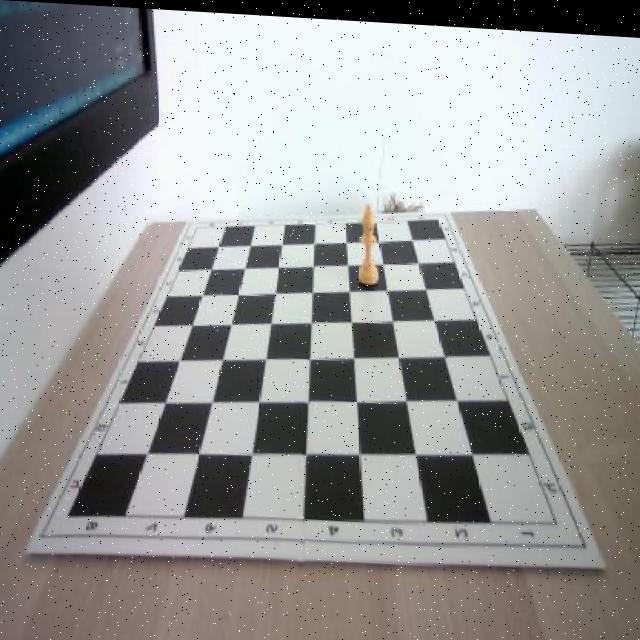black-rook: (358, 195, 380, 280)
